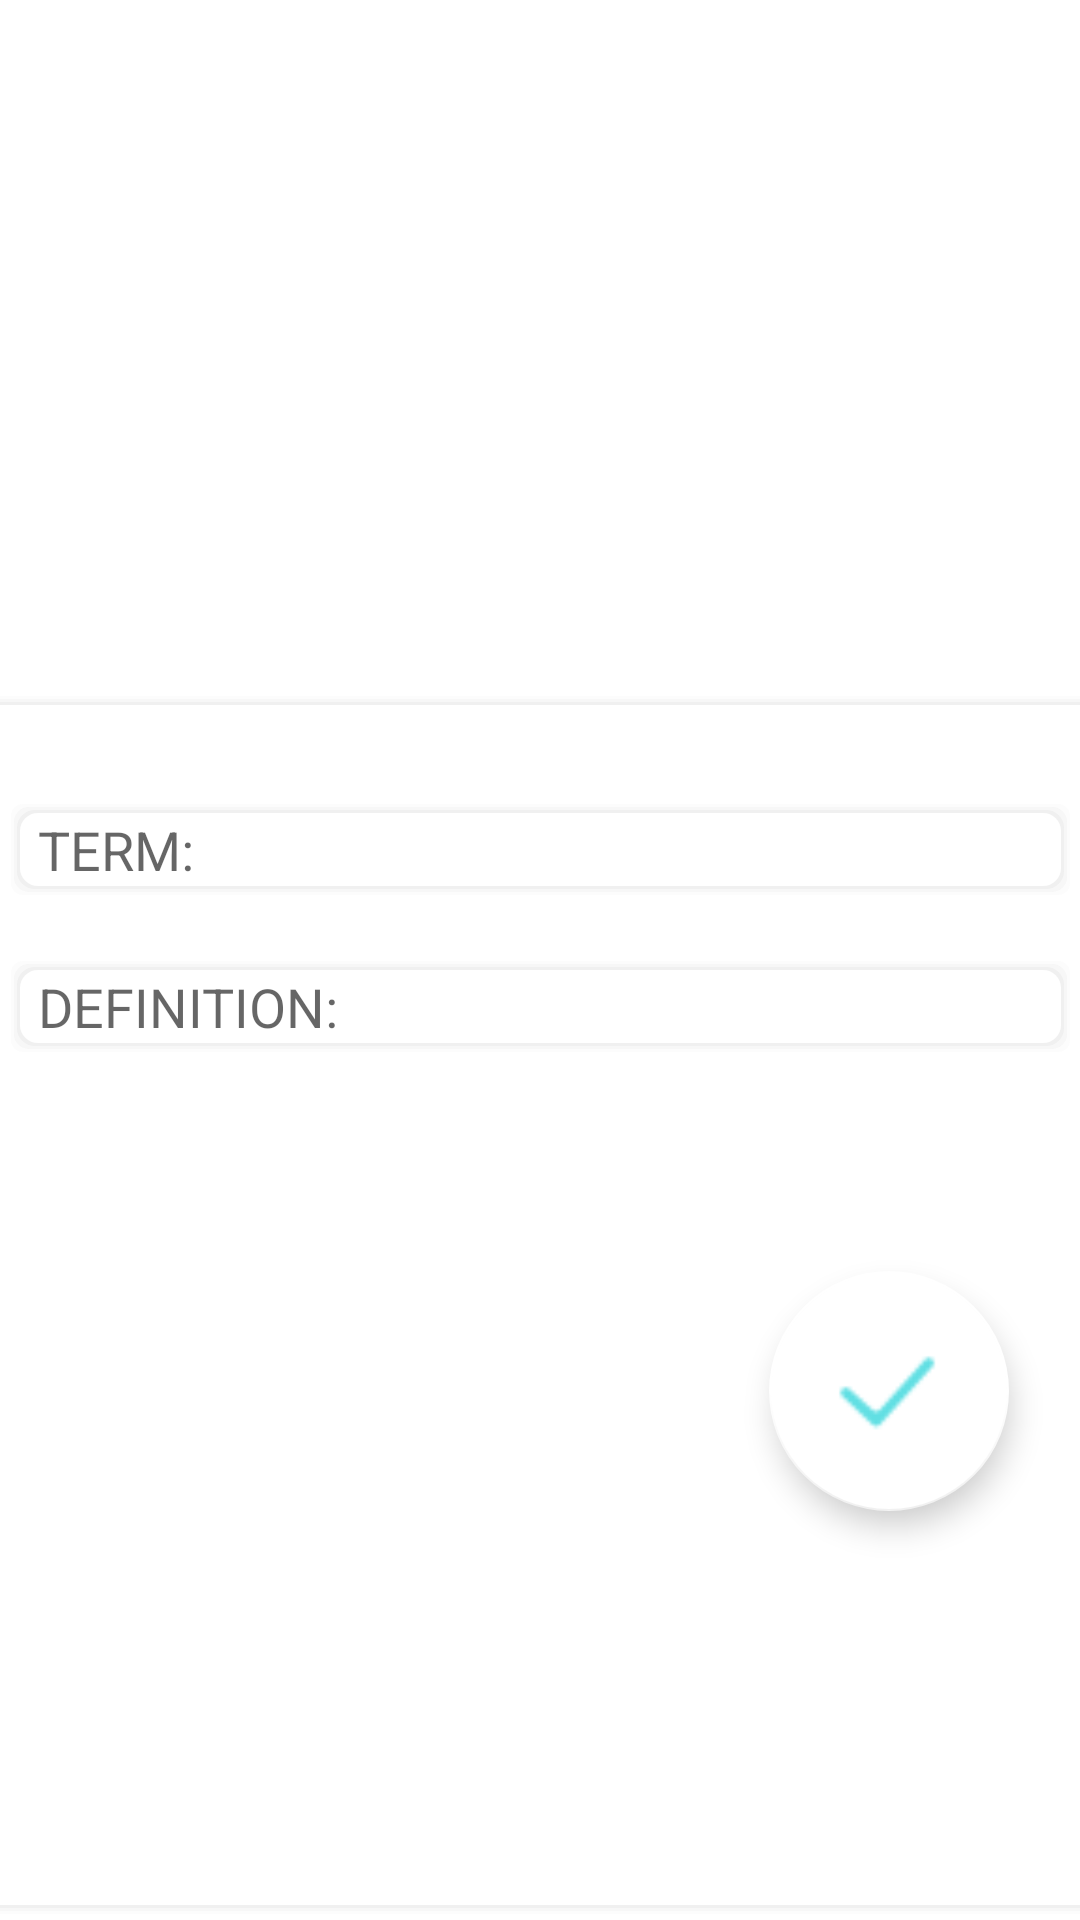

Icon bounding boxes for this 1080 × 1920 phone screenshot, format (x1, y1, x2, y2):
vocab check: (793, 1356, 935, 1465)
